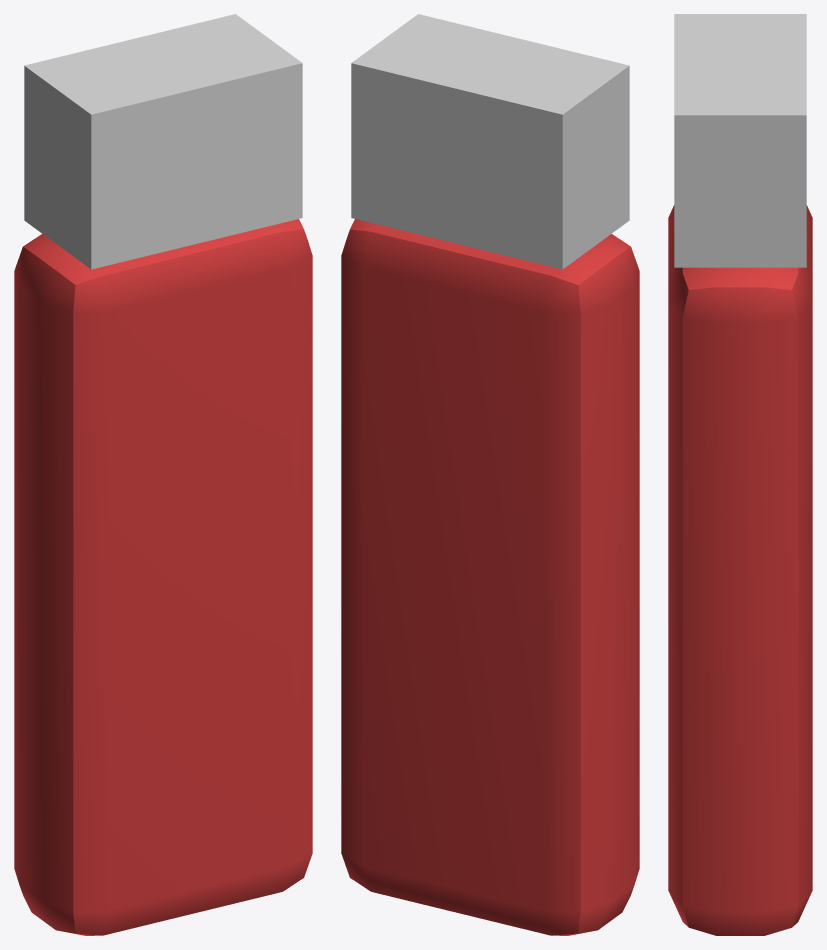
Rendered from bat_lua.glb.
3 renders of one model, left to right at view 1: azimuth 30°, elevation 25°; view 2: azimuth 150°, elevation 25°; view 3: azimuth 270°, elevation 25°, orthographic.
Parts seen in each view (by area): view 1: bat_lua; view 2: bat_lua; view 3: bat_lua.
Boxes of the visible parts, x1,y1,x2,y2 form: bat_lua: [14, 14, 312, 935]; bat_lua: [341, 14, 639, 935]; bat_lua: [668, 14, 812, 935].
Bounding box in the file's own units: 0.025 × 0.076 × 0.012.
